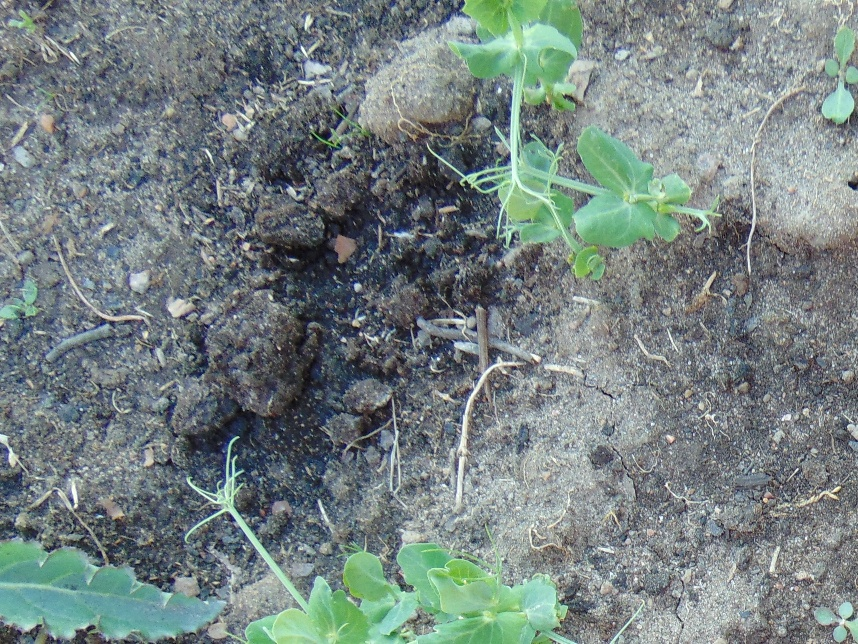crop: (426, 1, 715, 281), (204, 547, 567, 644), (200, 453, 360, 642)
weed: (1, 535, 226, 644), (820, 23, 858, 123), (1, 283, 37, 319)
